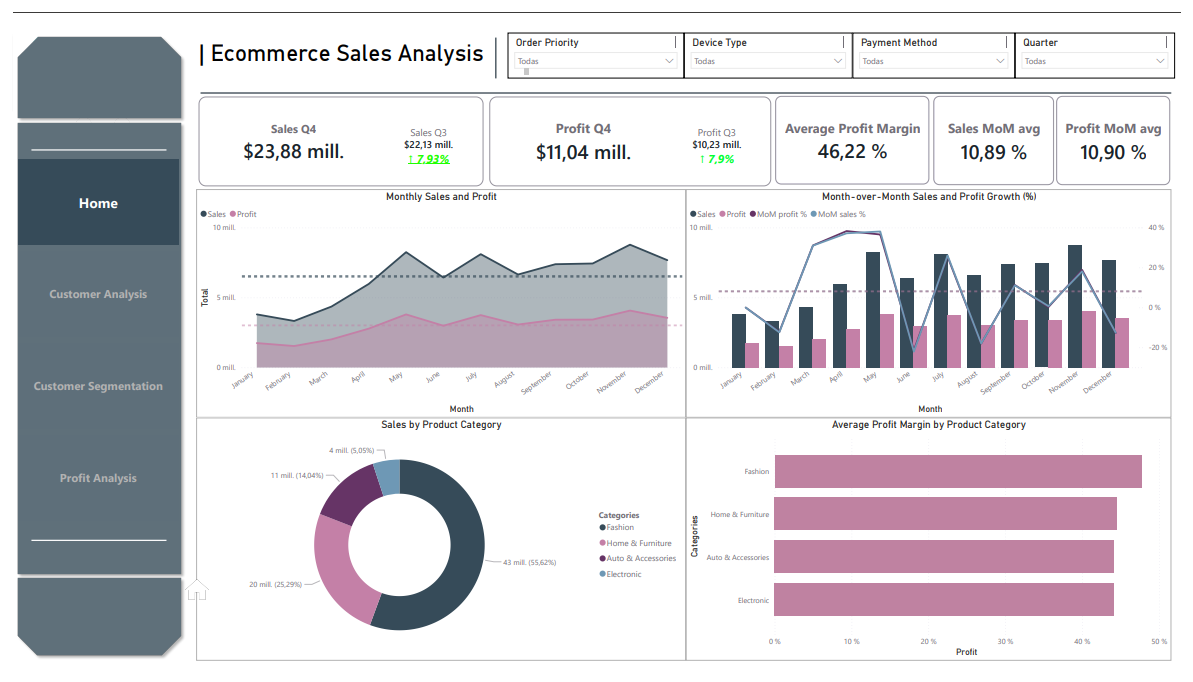

The page's visual inventory and layout, read from the dashboard file:
{"tool":"powerbi","page":{"name":"Home","canvas":[1920,1080],"ordinal":0},"visuals":[{"type":"cardVisual","fields":{"Data":["Util.Profit Margin"]},"box":[1236.9,120.3,287.2,178.5],"z":0},{"type":"areaChart","title":"Monthly Sales and Profit","fields":{"Category":["Calendar.MonthName"],"Y":["Sum(ecomm.Sales)","Sum(ecomm.Profit)"]},"box":[301.9,290,804.7,375.1],"z":1000},{"type":"donutChart","title":"Sales by Product Category","fields":{"Category":["ecomm.Product_Category"],"Y":["Sum(ecomm.Sales)"]},"box":[301.9,665,804.7,399],"z":2000},{"type":"barChart","title":"Average Profit Margin by Product Category","fields":{"Category":["ecomm.Product_Category"],"Y":["ecomm.Margen % Categoría"]},"box":[1106.6,665,798,399],"z":3000},{"type":"slicer","fields":{"Values":["Calendar.Quarter"]},"box":[1647.9,33.3,263.3,74.5],"z":4000},{"type":"slicer","fields":{"Values":["ecomm.Order_Priority"]},"box":[814,33.3,290,74.5],"z":5000},{"type":"slicer","fields":{"Values":["ecomm.Payment_method"]},"box":[1380.6,33.3,267.3,74.5],"z":6000},{"type":"slicer","fields":{"Values":["ecomm.Device_Type"]},"box":[1103.9,33.3,276.7,74.5],"z":7000},{"type":"textbox","title":"| Ecommerce Sales Analysis","box":[301.9,43.9,552,63.8],"z":8000},{"type":"pageNavigator","box":[9.3,290,264.7,577.2],"z":9000},{"type":"image","box":[280.6,927,42.6,41.2],"z":10000},{"type":"shape","box":[308.6,122.4,1596.1,20],"z":11000},{"type":"shape","box":[779.4,41.2,30.6,66.5],"z":12000},{"type":"image","box":[39.9,65.2,204.8,135.7],"z":13000},{"type":"shape","box":[30.6,239.4,222.1,22.6],"z":14000},{"type":"shape","box":[30.6,867.2,222.1,22.6],"z":15000},{"type":"shape","box":[0,171.6,284.6,759.5],"z":16000},{"type":"shape","box":[0,31.9,284.6,150.3],"z":17000},{"type":"shape","box":[0,920.4,284.6,143.6],"z":18000},{"type":"pageNavigator","box":[9.3,240,264,597.3],"z":19000},{"type":"shape","box":[30.6,214.1,222.1,22.6],"z":20000},{"type":"shape","box":[30.6,855.2,222.1,22.6],"z":21000},{"type":"cardVisual","fields":{"Data":["ecomm.Sales Q4"]},"box":[301.5,133.3,477.4,156.5],"z":22000},{"type":"lineClusteredColumnComboChart","title":"Month-over-Month Sales and Profit Growth (%)","fields":{"Y":["Sum(ecomm.Sales)","Sum(ecomm.Profit)"],"Category":["Calendar.MonthName"],"Y2":["ecomm.MoM profit %","ecomm.MoM %"]},"box":[1106.6,290,798,375.1],"z":23000},{"type":"cardVisual","fields":{"Data":["ecomm.Profit Q4"]},"box":[778.9,133.3,473.5,156.5],"z":24000},{"type":"cardVisual","fields":{"Data":["ecomm.MoM profit %"]},"box":[1698.8,120.3,221.2,179.8],"z":25000},{"type":"cardVisual","fields":{"Data":["ecomm.MoM %"]},"box":[1496.9,120.3,231.6,179.8],"z":26000}]}

Visuals, with their boxes in screenshot pixels (x1, y1, x2, y2), scaled from the page's 1920x1080 canvas onto the 1193x682 screenshot:
cardVisual - Util.Profit Margin: {"x1": 769, "y1": 76, "x2": 947, "y2": 189}
"Monthly Sales and Profit" areaChart: {"x1": 188, "y1": 183, "x2": 688, "y2": 420}
"Sales by Product Category" donutChart: {"x1": 188, "y1": 420, "x2": 688, "y2": 672}
"Average Profit Margin by Product Category" barChart: {"x1": 688, "y1": 420, "x2": 1183, "y2": 672}
slicer - Calendar.Quarter: {"x1": 1024, "y1": 21, "x2": 1188, "y2": 68}
slicer - ecomm.Order_Priority: {"x1": 506, "y1": 21, "x2": 686, "y2": 68}
slicer - ecomm.Payment_method: {"x1": 858, "y1": 21, "x2": 1024, "y2": 68}
slicer - ecomm.Device_Type: {"x1": 686, "y1": 21, "x2": 858, "y2": 68}
"| Ecommerce Sales Analysis" textbox: {"x1": 188, "y1": 28, "x2": 531, "y2": 68}
pageNavigator: {"x1": 6, "y1": 183, "x2": 170, "y2": 548}
image: {"x1": 174, "y1": 585, "x2": 201, "y2": 611}
shape: {"x1": 192, "y1": 77, "x2": 1183, "y2": 90}
shape: {"x1": 484, "y1": 26, "x2": 503, "y2": 68}
image: {"x1": 25, "y1": 41, "x2": 152, "y2": 127}
shape: {"x1": 19, "y1": 151, "x2": 157, "y2": 165}
shape: {"x1": 19, "y1": 548, "x2": 157, "y2": 562}
shape: {"x1": 0, "y1": 108, "x2": 177, "y2": 588}
shape: {"x1": 0, "y1": 20, "x2": 177, "y2": 115}
shape: {"x1": 0, "y1": 581, "x2": 177, "y2": 672}
pageNavigator: {"x1": 6, "y1": 152, "x2": 170, "y2": 529}
shape: {"x1": 19, "y1": 135, "x2": 157, "y2": 149}
shape: {"x1": 19, "y1": 540, "x2": 157, "y2": 554}
cardVisual - ecomm.Sales Q4: {"x1": 187, "y1": 84, "x2": 484, "y2": 183}
"Month-over-Month Sales and Profit Growth (%)" lineClusteredColumnComboChart: {"x1": 688, "y1": 183, "x2": 1183, "y2": 420}
cardVisual - ecomm.Profit Q4: {"x1": 484, "y1": 84, "x2": 778, "y2": 183}
cardVisual - ecomm.MoM profit %: {"x1": 1056, "y1": 76, "x2": 1192, "y2": 190}
cardVisual - ecomm.MoM %: {"x1": 930, "y1": 76, "x2": 1074, "y2": 190}
